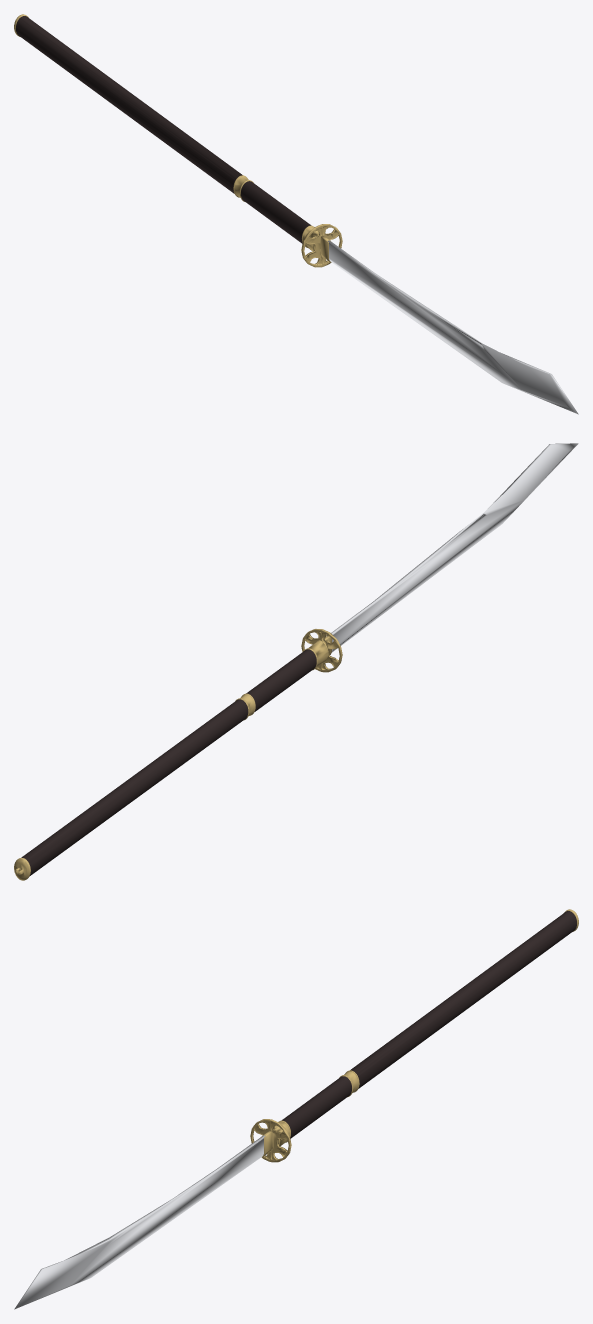
Rendered from naginata.glb.
3 renders of one model, top to bottom at view 1: azimuth 30°, elevation 25°; view 2: azimuth 150°, elevation 25°; view 3: azimuth 330°, elevation 25°, orthographic.
Parts seen in each view (by area): view 1: naginata; view 2: naginata; view 3: naginata.
Part boxes in pixels (<box>): naginata: <box>14,14,578,414</box>; naginata: <box>14,443,578,880</box>; naginata: <box>14,909,578,1309</box>.
Bounding box in the file's own units: 0.0867 × 0.1235 × 2.1.
